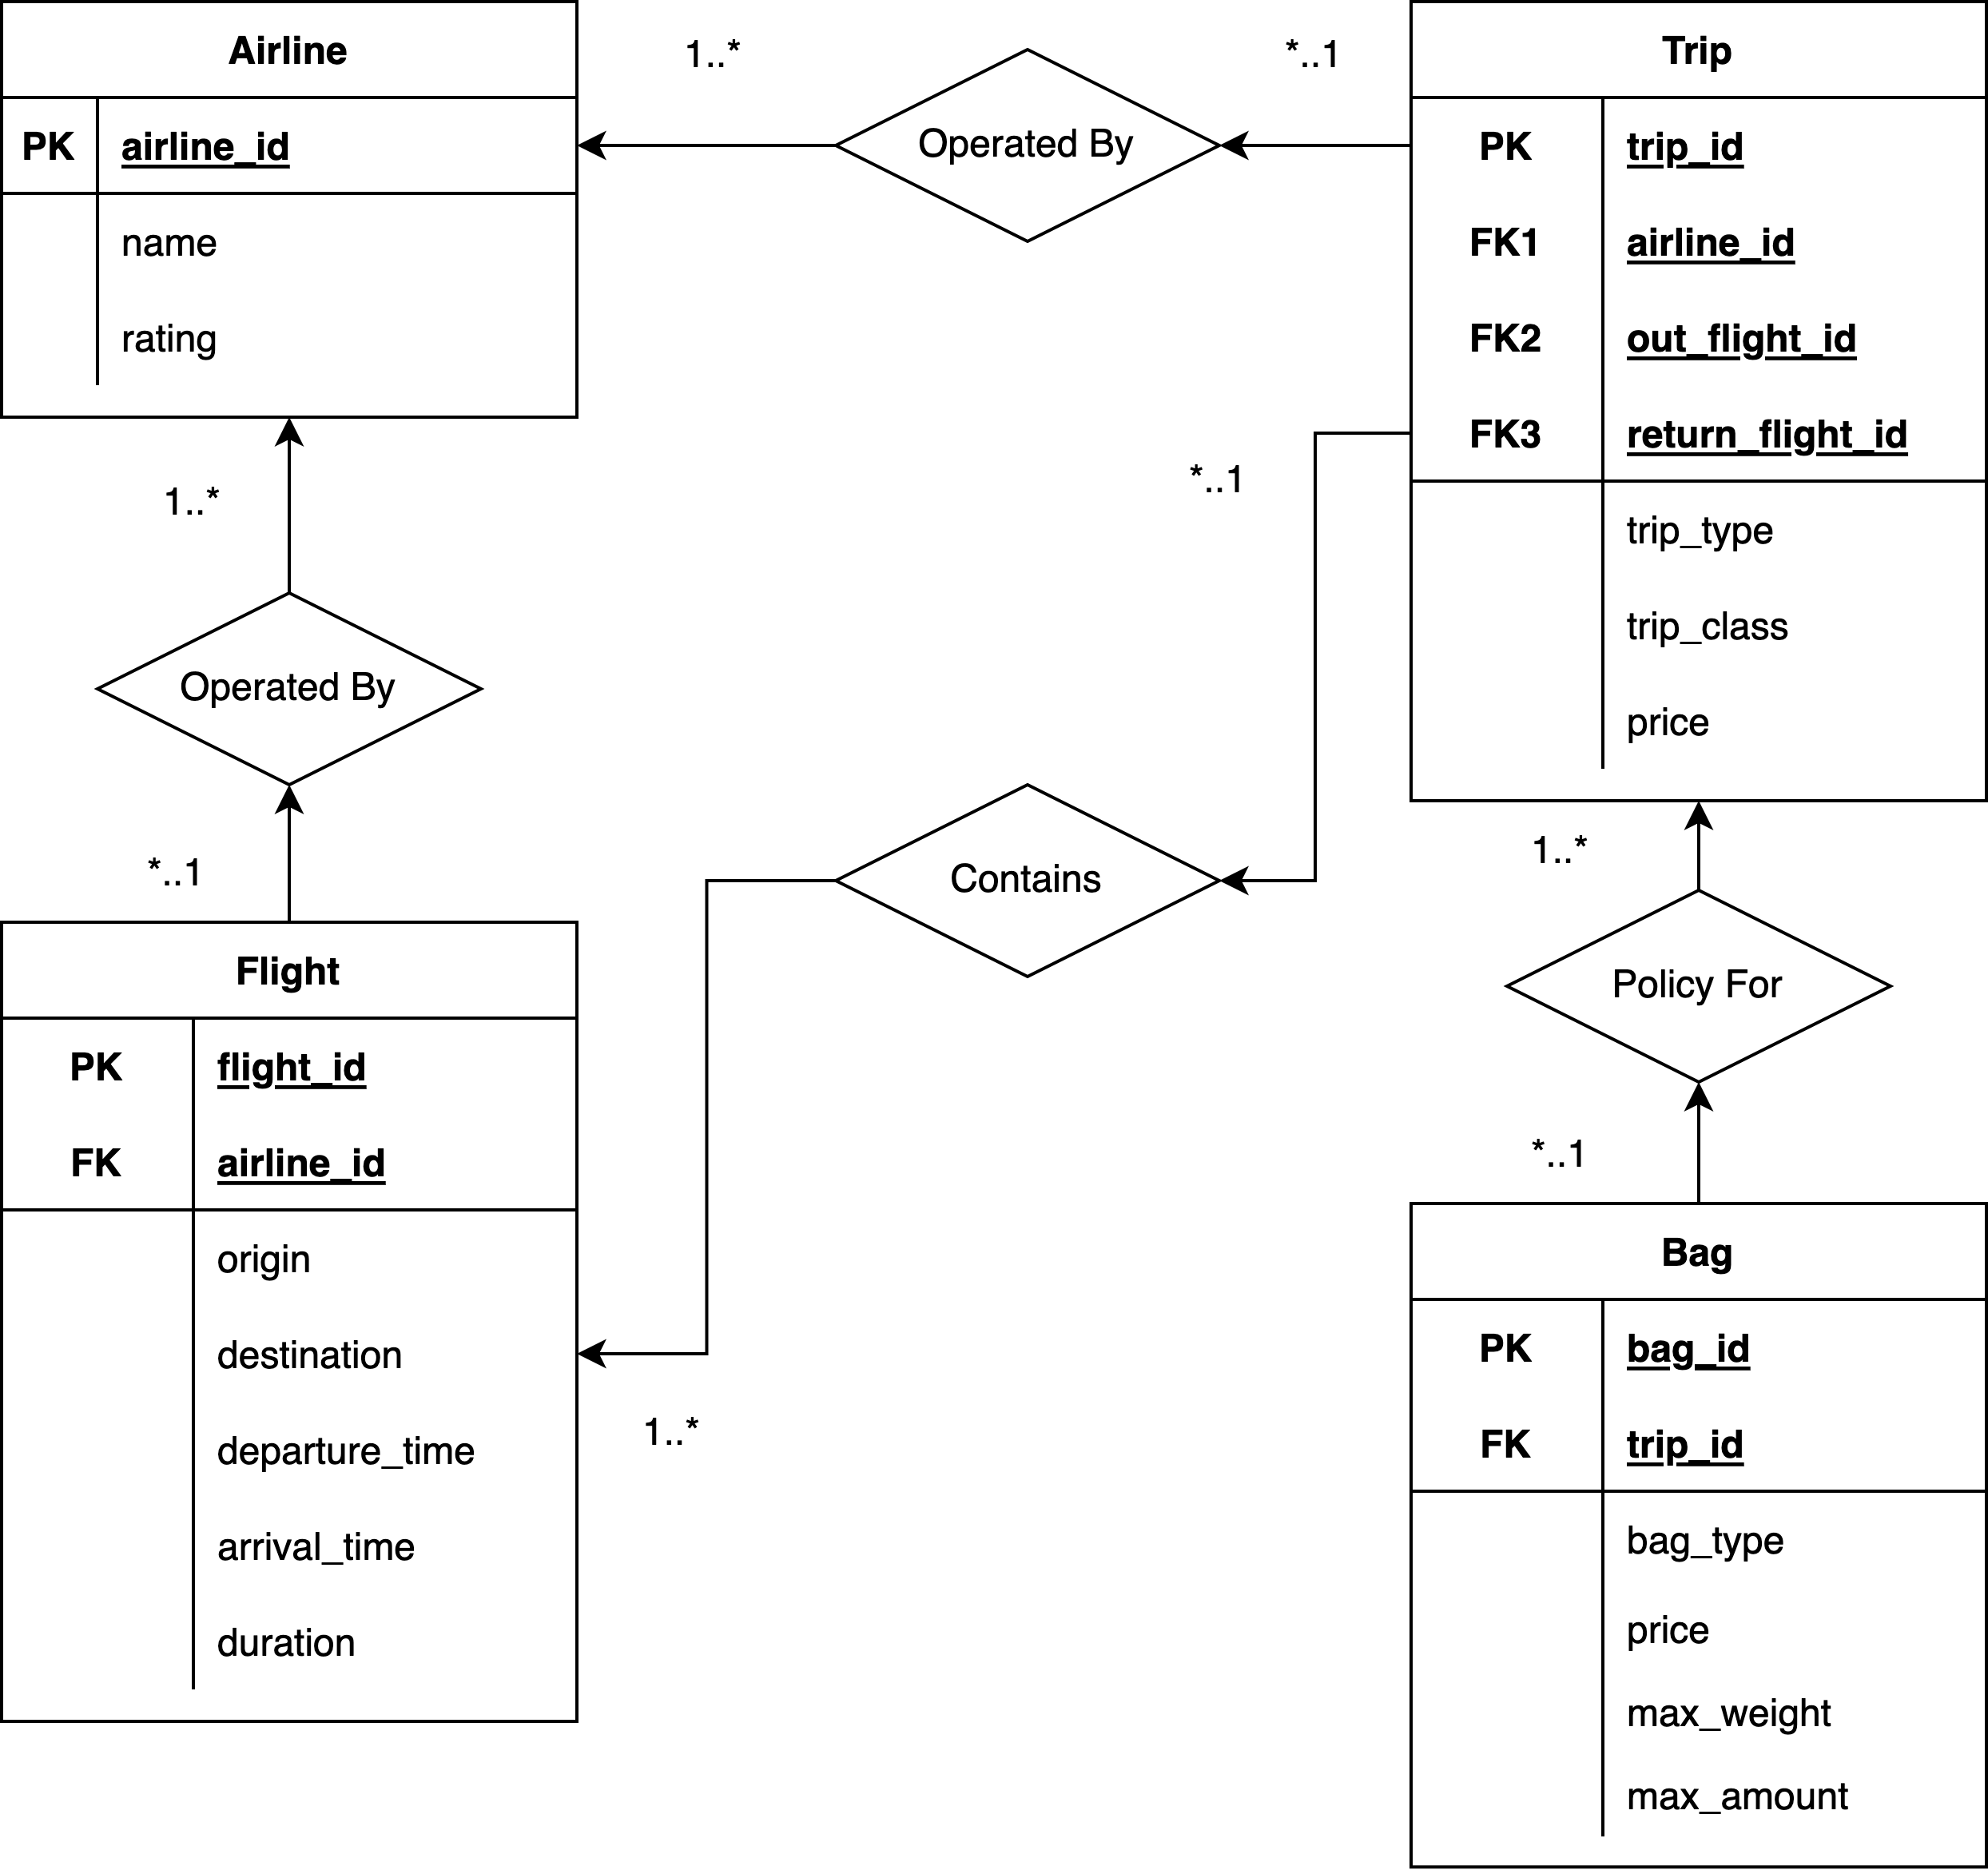entity: (1410, 0, 1988, 803), (0, 926, 575, 1722), (1415, 1207, 1988, 1870), (4, 0, 577, 418)
rel: (835, 784, 1222, 986), (835, 46, 1223, 243), (1501, 889, 1897, 1081), (98, 598, 487, 777)
